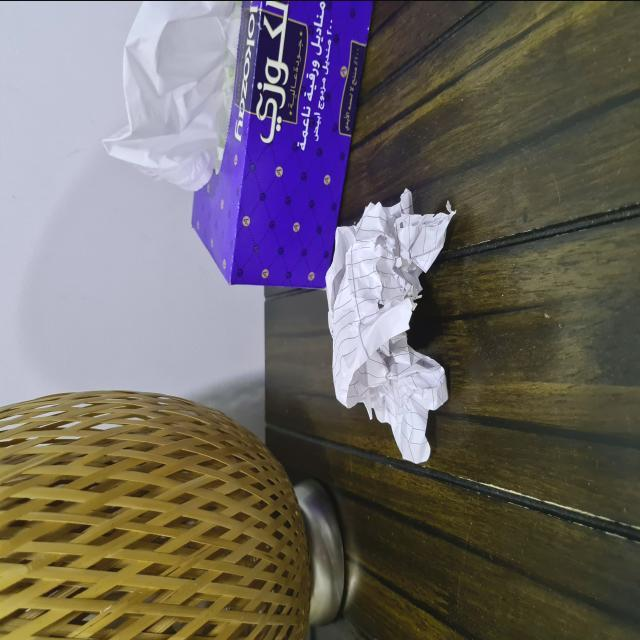Paper: (325, 193, 458, 468)
